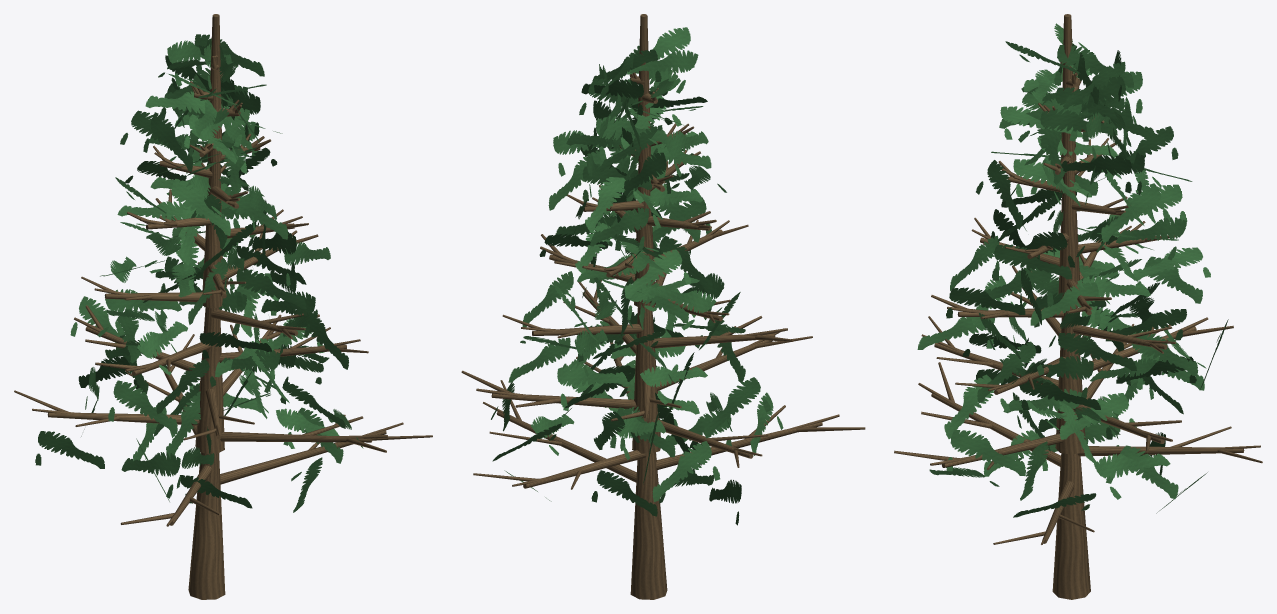
3 renders of one model, left to right at view 1: azimuth 30°, elevation 25°; view 2: azimuth 150°, elevation 25°; view 3: azimuth 270°, elevation 25°, orthographic.
Visible parts, largest first — view 1: pine-needle, pine-bark; view 2: pine-needle, pine-bark; view 3: pine-needle, pine-bark.
Boxes of the visible parts, left/top/right/bottom form: pine-needle: left=35, top=34, right=363, bottom=512; pine-bark: left=14, top=14, right=432, bottom=599; pine-needle: left=491, top=27, right=783, bottom=525; pine-bark: left=461, top=14, right=865, bottom=599; pine-needle: left=917, top=23, right=1228, bottom=517; pine-bark: left=894, top=14, right=1262, bottom=599.
Size of the model in its own units: 6.16 by 10.01 by 5.77.
Materials: 2 (2 with a texture image).
